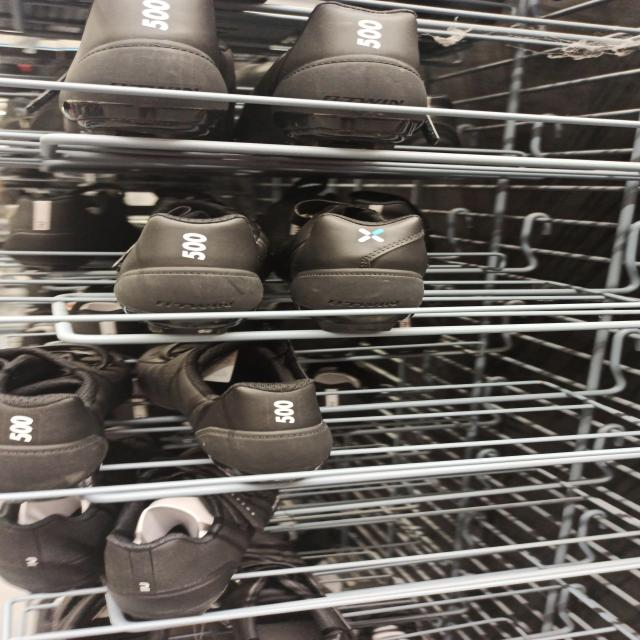shoes: (139, 340, 333, 484), (243, 3, 427, 144), (103, 484, 283, 619), (58, 0, 236, 134), (113, 194, 267, 334), (285, 200, 429, 332), (0, 344, 126, 492)
